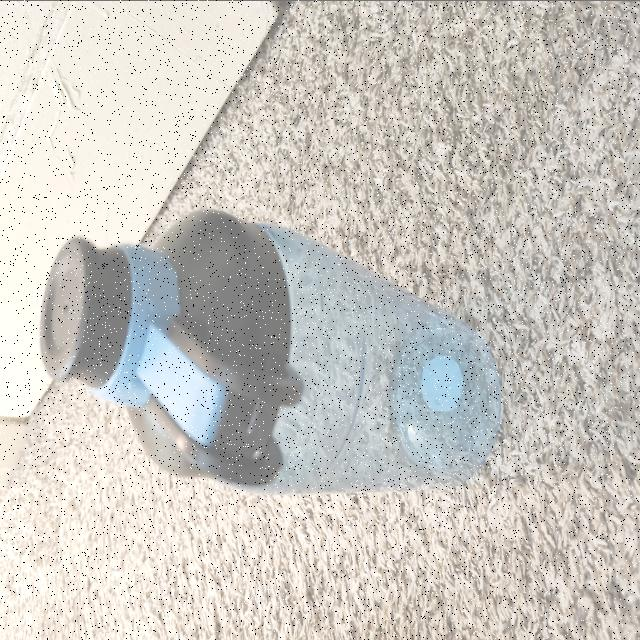bottle: (74, 302, 494, 474)
